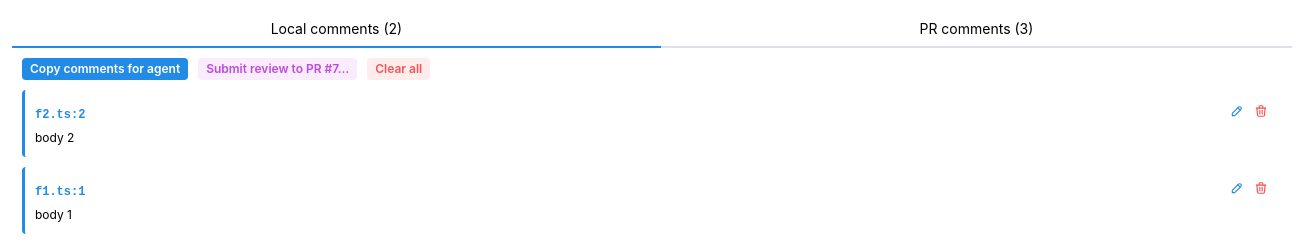
ReviewSidebar tabs › shows both tabs with counts and remembers the choice
Expected: the tab "Local comments (2)" is shown, left=12, top=12, right=661, bottom=48
Click the tab "PR comments (3)" at (976, 30), box left=661, top=12, right=1292, bottom=48
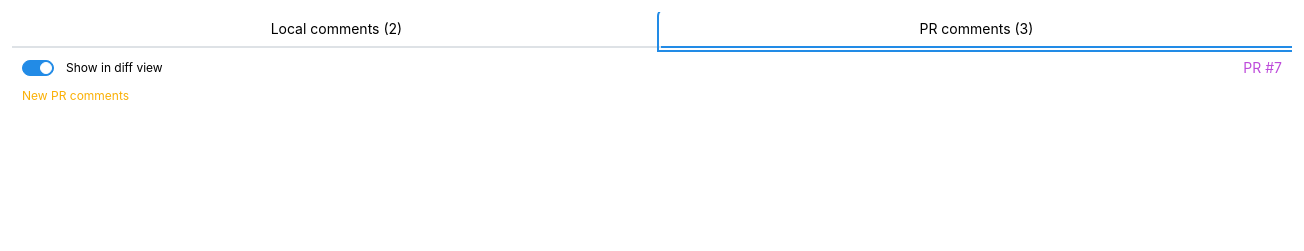
Result: the button "Copy comments for agent" is gone
